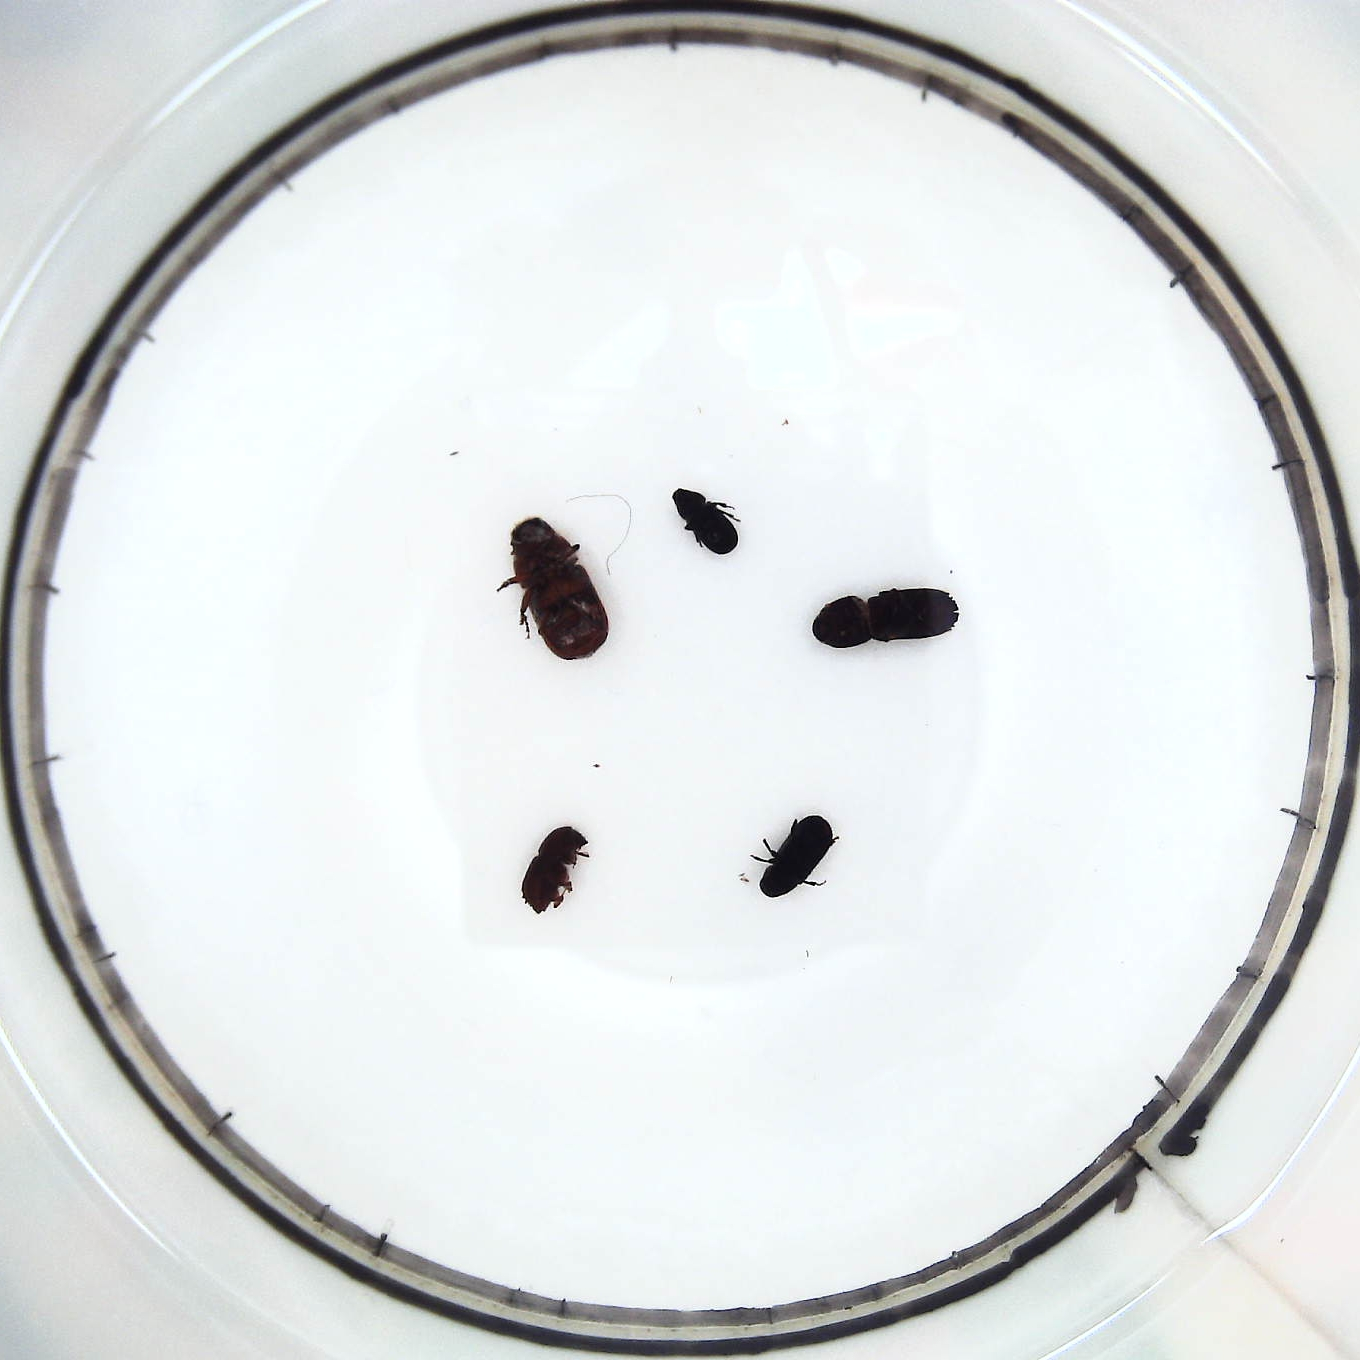Boerner: (812, 583, 963, 661)
Leconte: (499, 514, 619, 668)
armandi: (753, 815, 841, 904)
coleoptera: (663, 483, 741, 553)
linnaeus: (517, 817, 590, 924)
